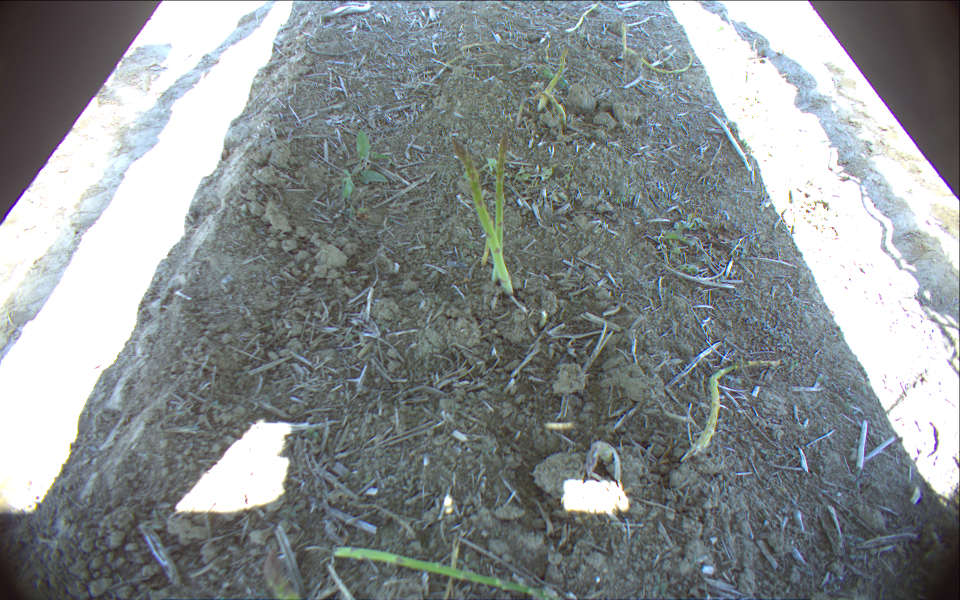aspa: (448, 137, 513, 296), (489, 133, 511, 286)
